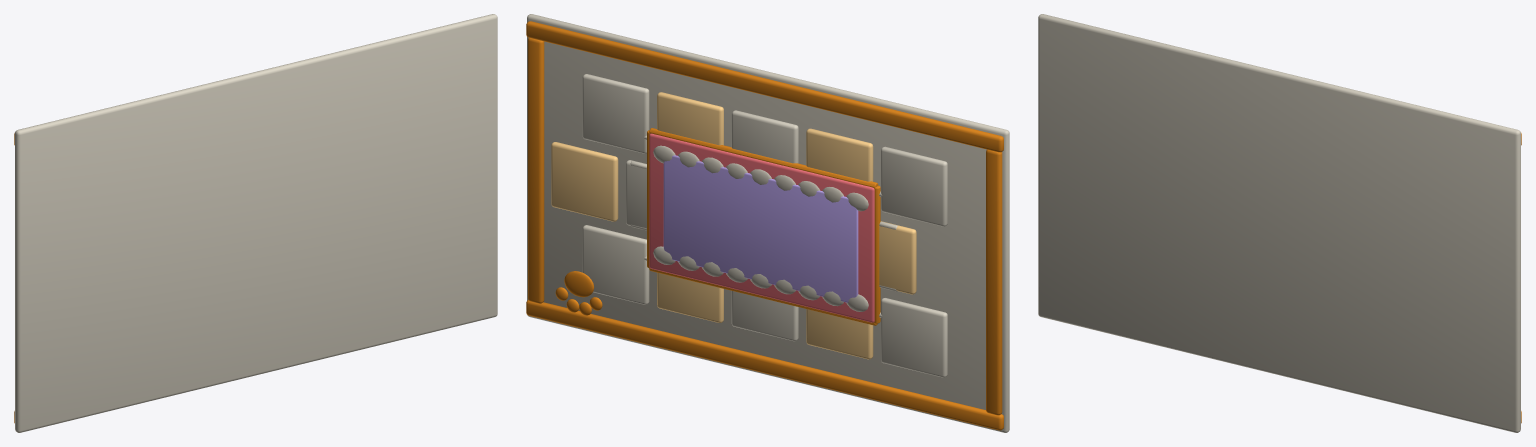
File: PatioStoneRug_Premium.fbx
3 views of the same model, side by side, from view 1: azimuth 30°, elevation 25°; view 2: azimuth 150°, elevation 25°; view 3: azimuth 330°, elevation 25° (orthographic).
Visible parts, largest first — view 1: PatioStoneRug; view 2: PatioStoneRug; view 3: PatioStoneRug.
Part boxes in pixels (x1,y1,x2,y2): PatioStoneRug: (14,14,497,432); PatioStoneRug: (526,14,1009,432); PatioStoneRug: (1038,14,1521,432).
Bounding box in the file's own units: 2 × 1.2 × 0.076.
